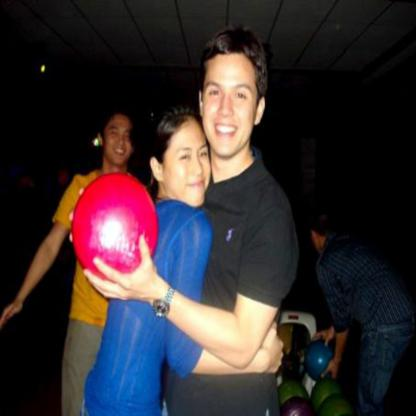Ball: (72, 171, 157, 280), (302, 343, 336, 379), (311, 380, 340, 410), (278, 383, 310, 409), (316, 393, 348, 415), (278, 395, 313, 415)
